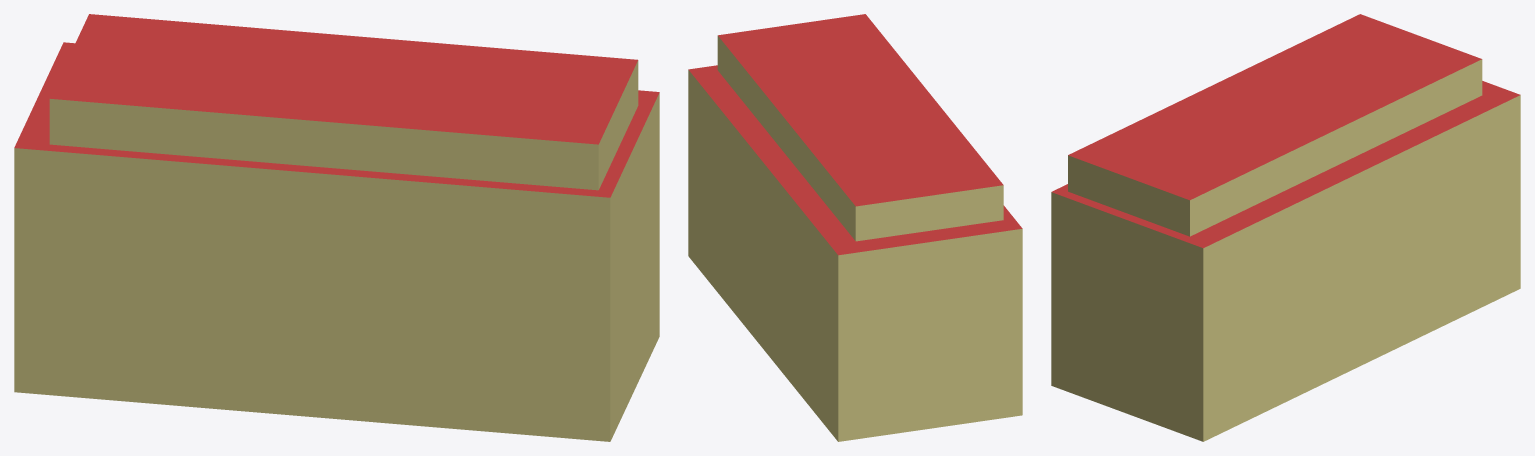
3 renders of one model, left to right at view 1: azimuth 30°, elevation 25°; view 2: azimuth 150°, elevation 25°; view 3: azimuth 270°, elevation 25°, orthographic. The views are drawn at different scales.
Visible parts, largest first — view 1: group_6, group_4, group_5, group_3; view 2: group_6, group_4, group_5, group_3; view 3: group_6, group_4, group_5, group_3.
Part boxes in pixels (x1,y1,x2,y2): group_6: [14, 93, 659, 441]; group_4: [49, 14, 637, 144]; group_5: [49, 60, 638, 190]; group_3: [14, 42, 659, 197]; group_6: [688, 70, 1022, 441]; group_4: [718, 14, 1003, 206]; group_5: [717, 35, 1003, 241]; group_3: [688, 65, 1022, 255]; group_6: [1051, 95, 1520, 441]; group_4: [1068, 14, 1481, 200]; group_5: [1068, 59, 1482, 236]; group_3: [1052, 81, 1520, 248].
Bounding box in the file's own units: 30.74 × 29.11 × 15.73.
